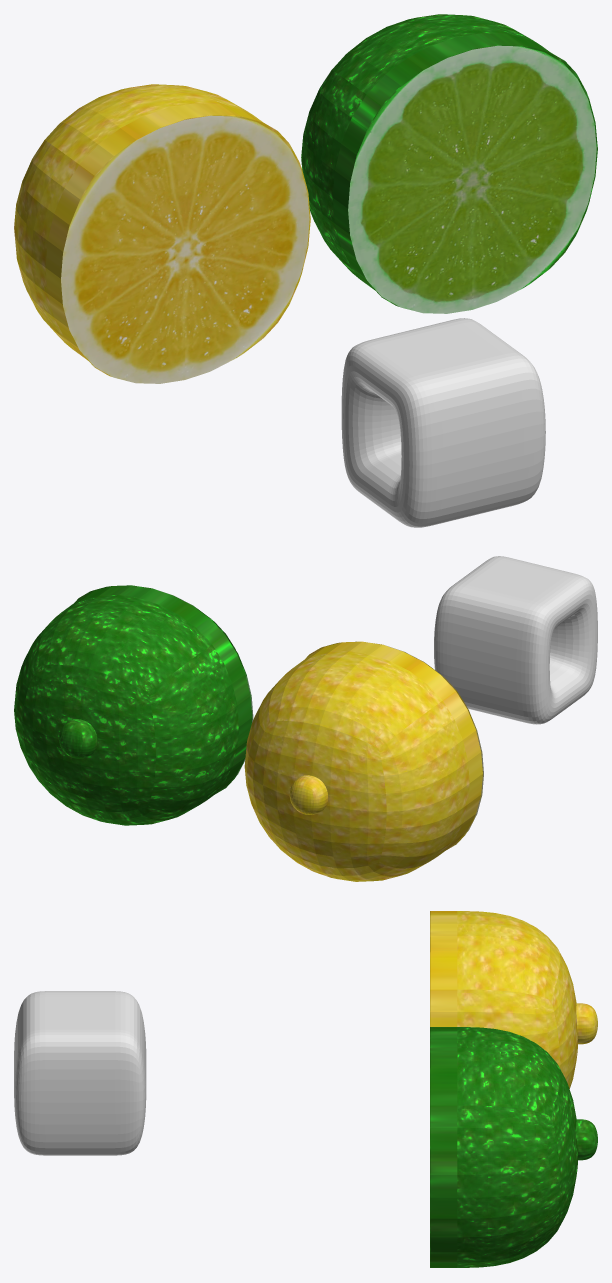
Rendered from Obst.fbx.
The picture shows the model from 3 angles, top to bottom: view 1: azimuth 30°, elevation 25°; view 2: azimuth 150°, elevation 25°; view 3: azimuth 270°, elevation 25°; orthographic projection. The views are drawn at different scales.
Parts seen in each view (by area): view 1: Zitrone_Scheibe, Limette_Scheibe, Ice, Zitrone, Limette; view 2: Zitrone, Limette, Ice; view 3: Limette, Ice, Zitrone.
Part boxes in pixels (x1,y1,x2,y2): Zitrone_Scheibe: (61,115,309,383); Limette_Scheibe: (348,45,596,313); Ice: (341,318,545,527); Zitrone: (14,84,310,376); Limette: (301,14,597,306); Zitrone: (244,641,482,881); Limette: (14,585,252,825); Ice: (434,556,597,724); Limette: (430,1027,597,1267); Ice: (14,991,146,1155); Zitrone: (430,911,597,1088).
Size of the model in its own units: 398 by 185 by 453.
